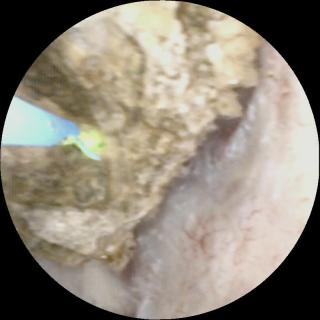fiber: (4, 99, 77, 145)
laser: (78, 130, 101, 149), (65, 137, 71, 143)
stone: (5, 6, 261, 270)
tissue: (65, 52, 314, 314)
